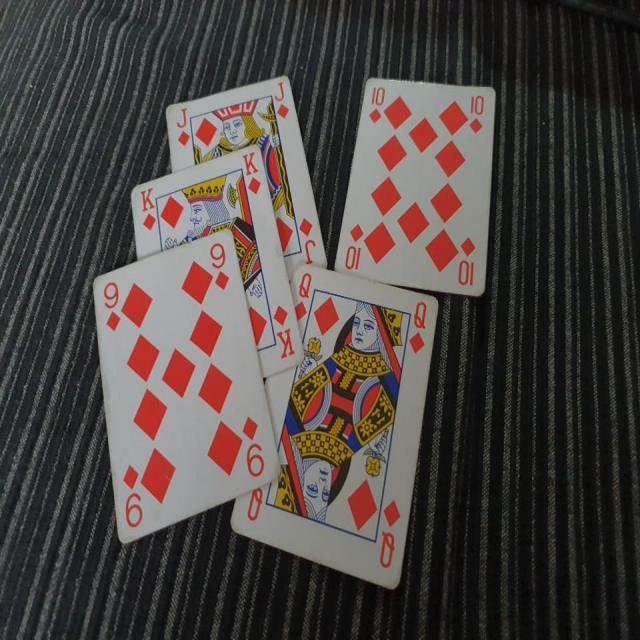10 of diamonds: (332, 73, 501, 299)
9 of diamonds: (90, 224, 282, 543)
jack of diamonds: (164, 68, 328, 274)
king of diamonds: (128, 143, 306, 382)
queen of diamonds: (227, 260, 440, 592)
